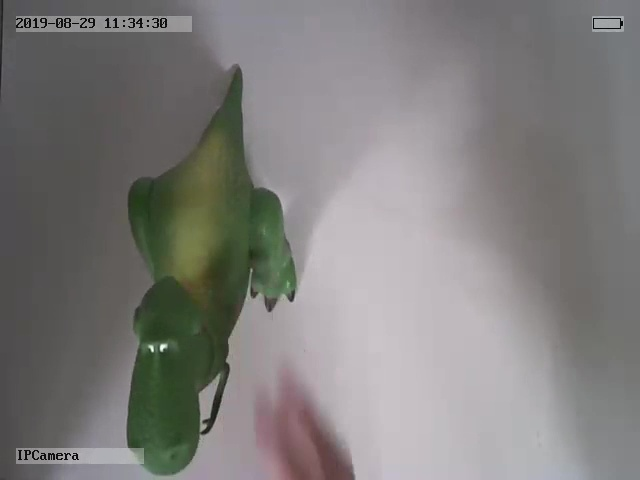rex: (126, 63, 298, 473)
